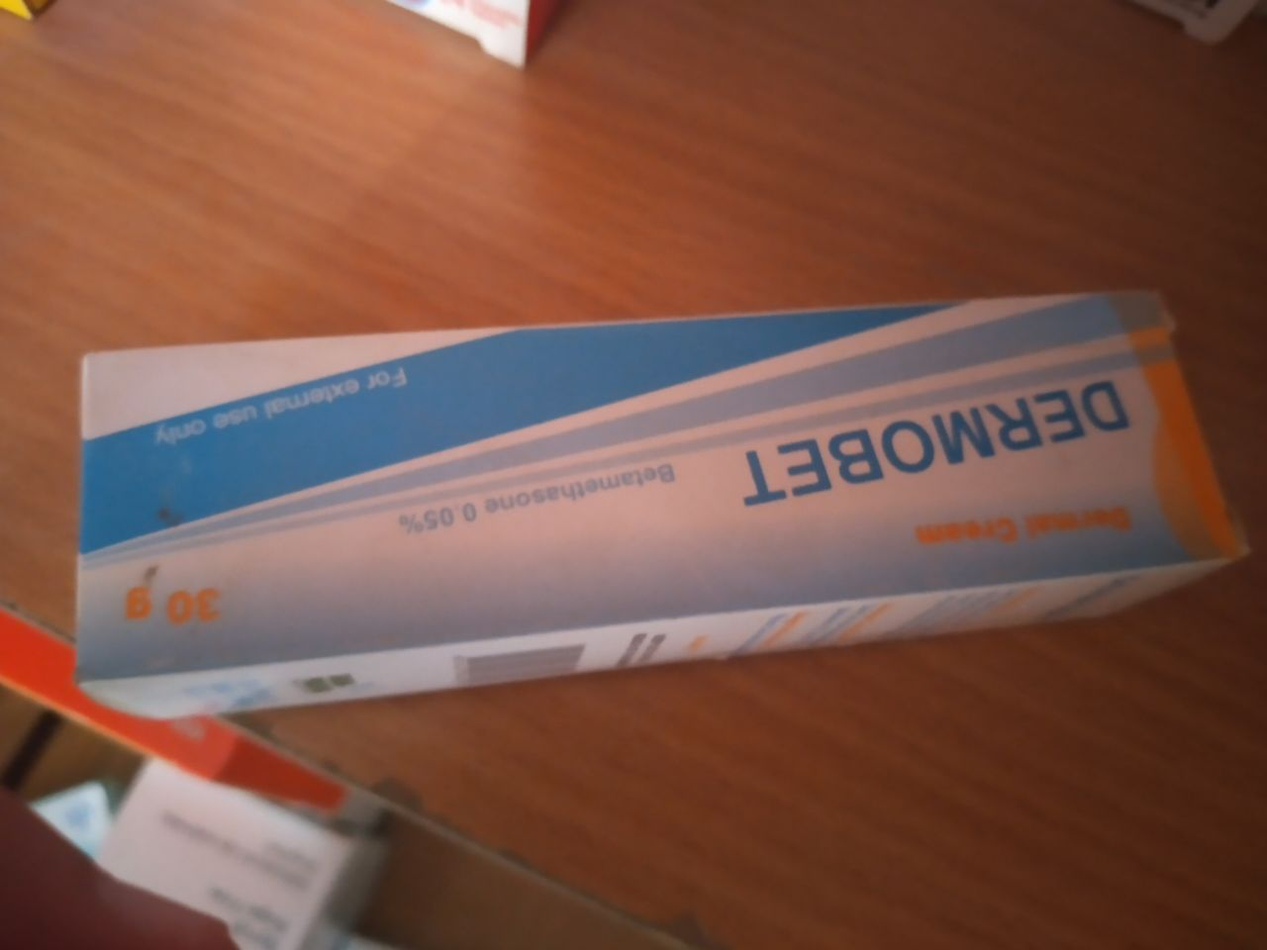Medicine: (74, 277, 1267, 712)
